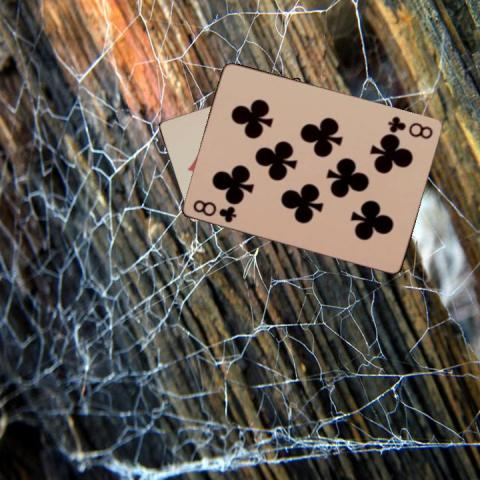8c: (385, 112, 435, 140), (190, 196, 239, 224)
